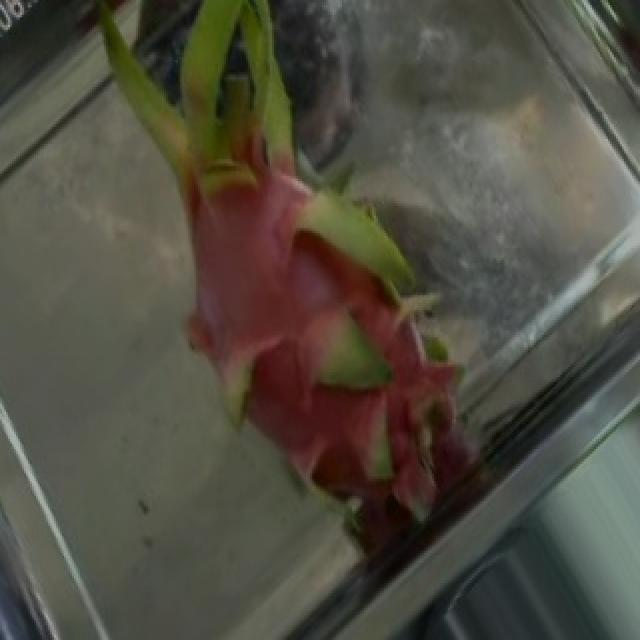fruit: (134, 104, 562, 571)
